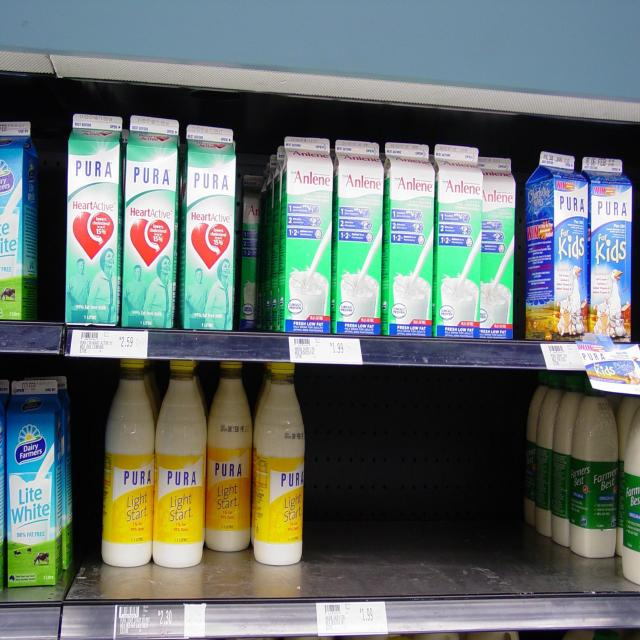void: (317, 360, 527, 584), (39, 146, 64, 320)
